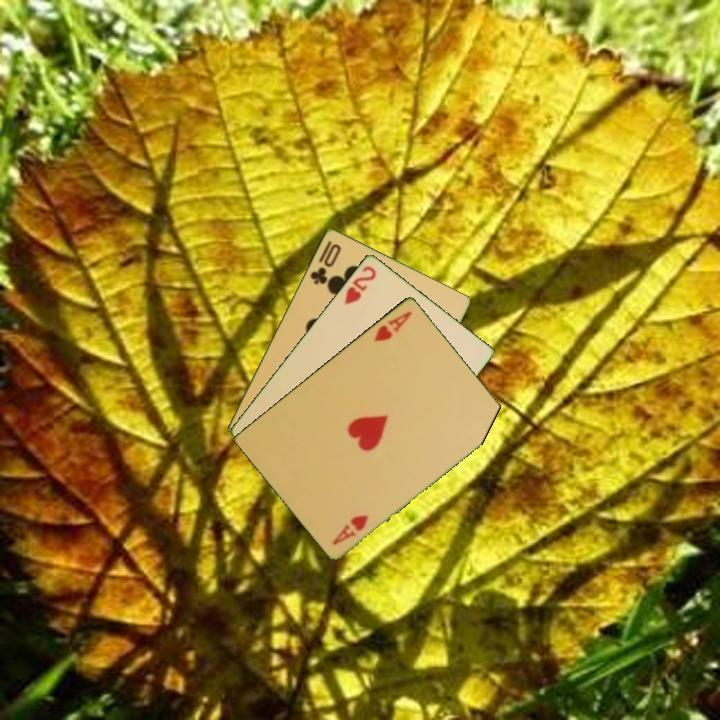10c: (306, 240, 344, 287)
2h: (340, 262, 379, 307)
Ah: (370, 307, 415, 344), (329, 511, 372, 548)
